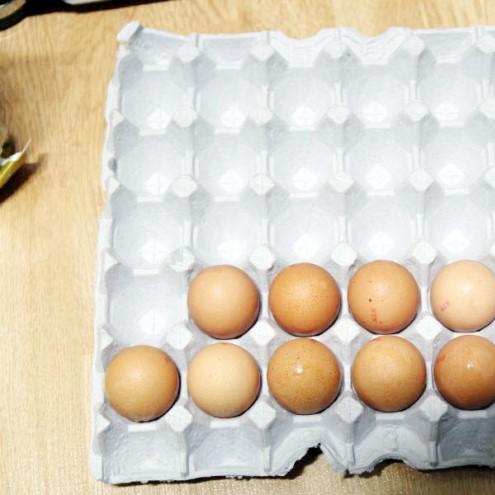egg: (105, 261, 495, 421)
